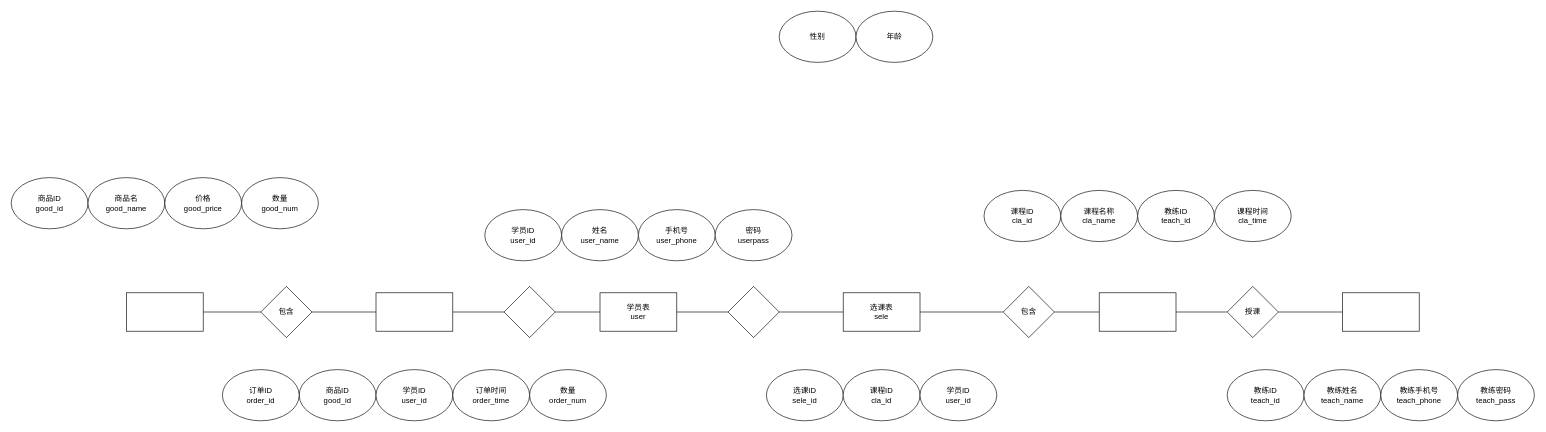
Image size: 1546x432. Some labels were removed from this diagram. Each missing label, with the box of its shape:
下单: (503, 286, 555, 338)
商品表 good: (126, 292, 203, 331)
教练表 teach: (1342, 292, 1419, 331)
订单表 order: (375, 292, 453, 331)
课程表 cla: (1099, 292, 1176, 331)
选择: (727, 286, 779, 338)
